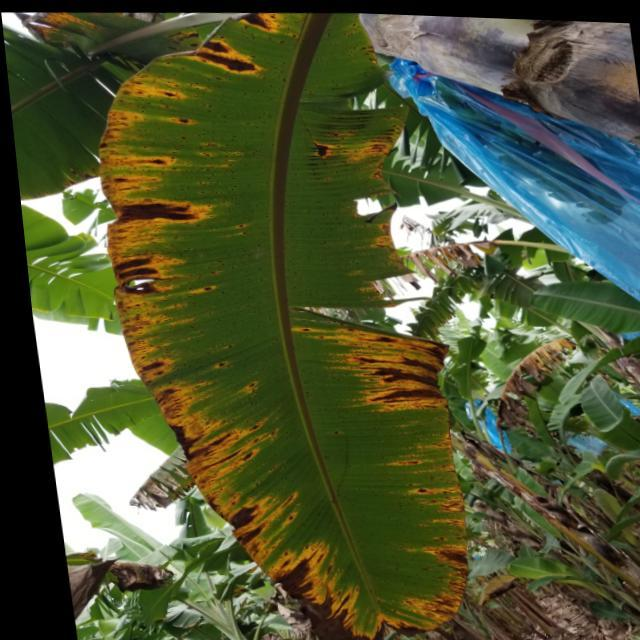Early_rust: (99, 6, 496, 640), (13, 0, 103, 50)
